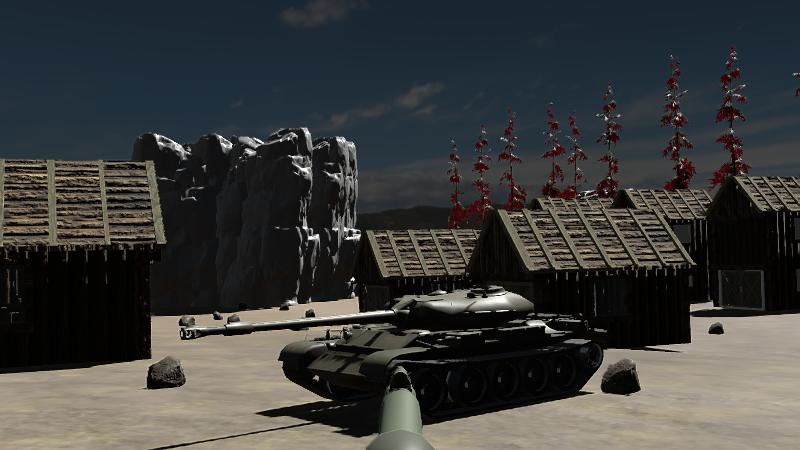House: (1, 159, 163, 369), (470, 201, 697, 343), (704, 174, 799, 314), (356, 229, 482, 322)
Tank: (180, 287, 608, 422)
